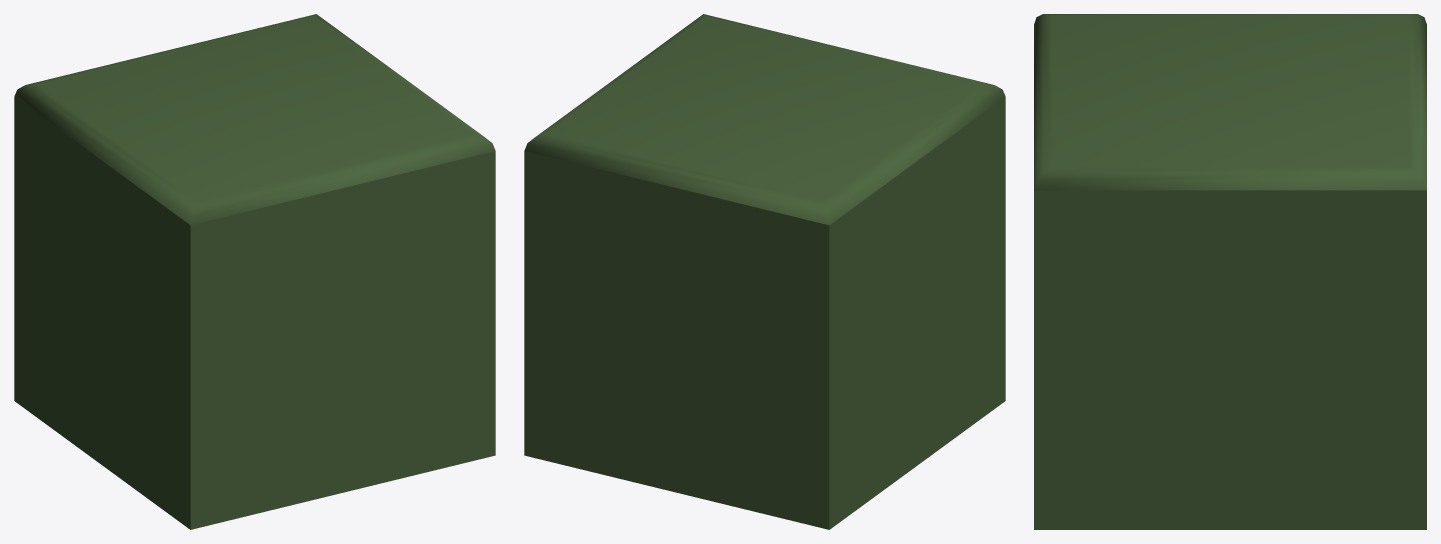
File: Ground.obj
The picture shows the model from 3 angles, left to right: view 1: azimuth 30°, elevation 25°; view 2: azimuth 150°, elevation 25°; view 3: azimuth 270°, elevation 25°; orthographic projection. The views are drawn at different scales.
Visible parts, largest first — view 1: Cube; view 2: Cube; view 3: Cube.
Part boxes in pixels (box(x1,y1,x2,y2)): Cube: box(14, 14, 495, 529); Cube: box(524, 14, 1005, 529); Cube: box(1034, 14, 1426, 529).
Size of the model in its own units: 0.15 by 0.15 by 0.15.
